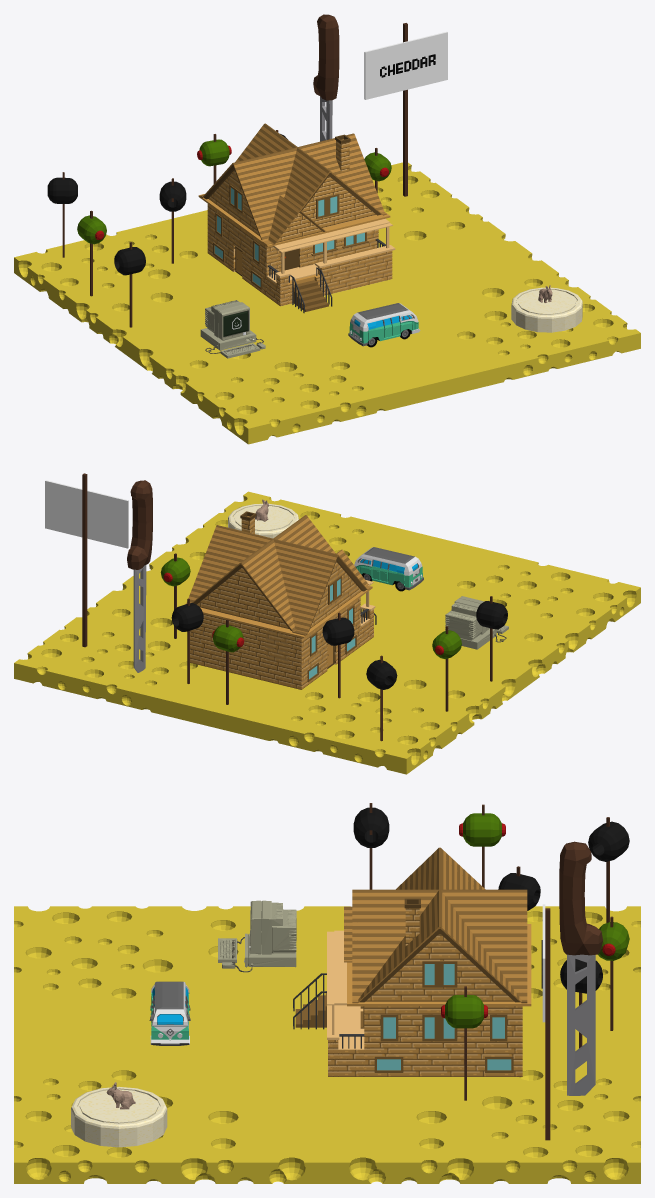
3 renders of one model, top to bottom at view 1: azimuth 30°, elevation 25°; view 2: azimuth 150°, elevation 25°; view 3: azimuth 270°, elevation 25°, orthographic. The views are drawn at different scales.
Parts seen in each view (by area): view 1: Cube.022, Cube.508, Cube.023, Cylinder.016, OBJRANDOM_RETRO_PC, Cube.024, VEHICLES_VAN, Sphere.017, Sphere.016, Sphere.020, Sphere.018, Sphere.022 (+1 smaller); view 2: Cube.022, Cube.508, Cube.023, Cube.024, VEHICLES_VAN, OBJRANDOM_RETRO_PC, Cylinder.016, Sphere.017, Sphere.020, Sphere.021, Sphere.016, Sphere.018 (+2 smaller); view 3: Cube.022, Cube.508, Cube.024, Cylinder.016, OBJRANDOM_RETRO_PC, VEHICLES_VAN, Cube.023, Sphere.019, Sphere.016, Sphere.018, Sphere.017, Sphere.022 (+2 smaller).
Boxes of the visible parts, box(x1,y1,x2,y2) form: Cube.022: box(14, 162, 640, 444); Cube.508: box(198, 123, 395, 313); Cube.023: box(364, 23, 447, 196); Cylinder.016: box(511, 287, 582, 332); OBJRANDOM_RETRO_PC: box(200, 300, 265, 358); Cube.024: box(313, 14, 339, 141); VEHICLES_VAN: box(348, 303, 420, 347); Sphere.017: box(114, 242, 145, 327); Sphere.016: box(47, 172, 77, 257); Sphere.020: box(159, 178, 186, 263); Sphere.018: box(77, 210, 106, 296); Sphere.022: box(197, 134, 231, 183); Cube.022: box(14, 491, 640, 774); Cube.508: box(185, 511, 376, 689); Cube.023: box(45, 473, 128, 647); Cube.024: box(127, 480, 152, 672); VEHICLES_VAN: box(354, 547, 423, 591); OBJRANDOM_RETRO_PC: box(445, 596, 508, 649); Cylinder.016: box(228, 503, 298, 538); Sphere.017: box(476, 596, 507, 681); Sphere.020: box(322, 612, 354, 698); Sphere.021: box(171, 598, 203, 683); Sphere.016: box(366, 655, 397, 741); Sphere.018: box(432, 626, 461, 711); Cube.022: box(14, 906, 640, 1183); Cube.508: box(293, 847, 531, 1076); Cube.024: box(559, 841, 602, 1095); Cylinder.016: box(71, 1086, 167, 1147); OBJRANDOM_RETRO_PC: box(218, 900, 296, 972); VEHICLES_VAN: box(149, 981, 190, 1045); Cube.023: box(541, 904, 550, 1140); Sphere.019: box(441, 986, 487, 1100); Sphere.016: box(588, 817, 629, 922); Sphere.018: box(459, 804, 505, 887); Sphere.017: box(353, 803, 389, 889); Sphere.022: box(598, 916, 629, 1030).
Size of the model in its own units: 3917 by 2108 by 4000.
Materials: 39 (4 with a texture image).
